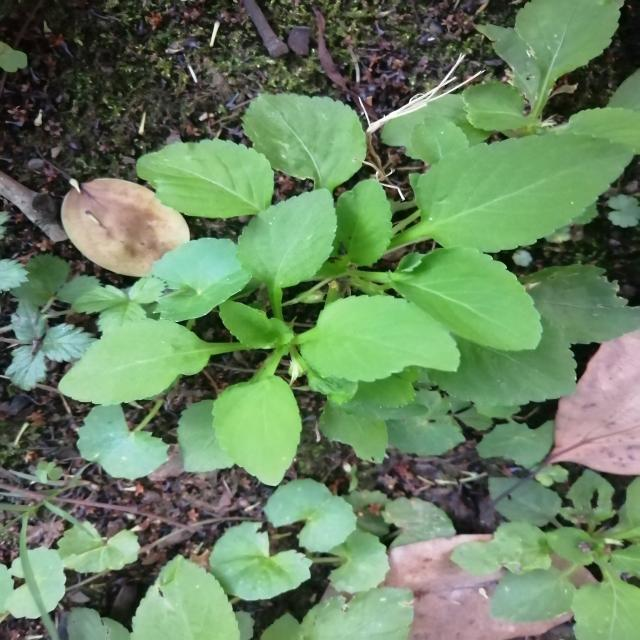Viola: (91, 99, 571, 461)
